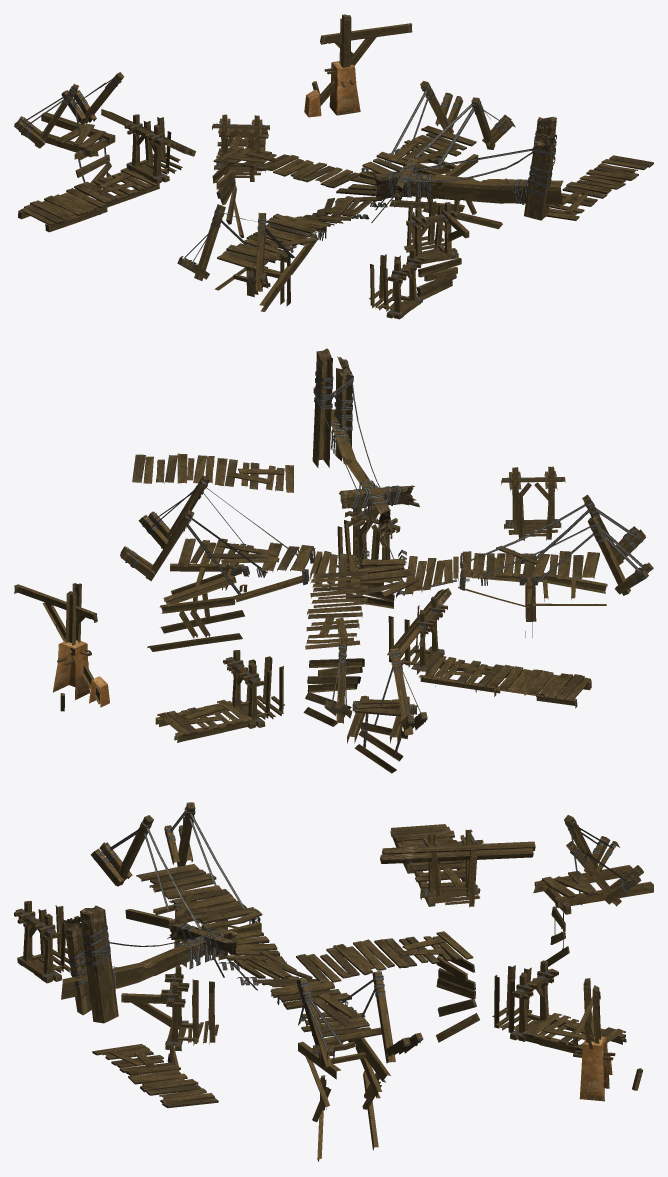
File: 6001_Item_mutou_1.FBX
3 views of the same model, one above another, from view 1: azimuth 30°, elevation 25°; view 2: azimuth 150°, elevation 25°; view 3: azimuth 270°, elevation 25° (orthographic). The views are drawn at different scales.
Parts seen in each view (by area): view 1: 6001_Item_mutou_1; view 2: 6001_Item_mutou_1; view 3: 6001_Item_mutou_1.
Part boxes in pixels (left/top/right/bottom): 6001_Item_mutou_1: left=14, top=14, right=653, bottom=319; 6001_Item_mutou_1: left=14, top=348, right=653, bottom=773; 6001_Item_mutou_1: left=14, top=802, right=653, bottom=1161.
Bounding box in the file's own units: 2847 × 2621 × 1024.
